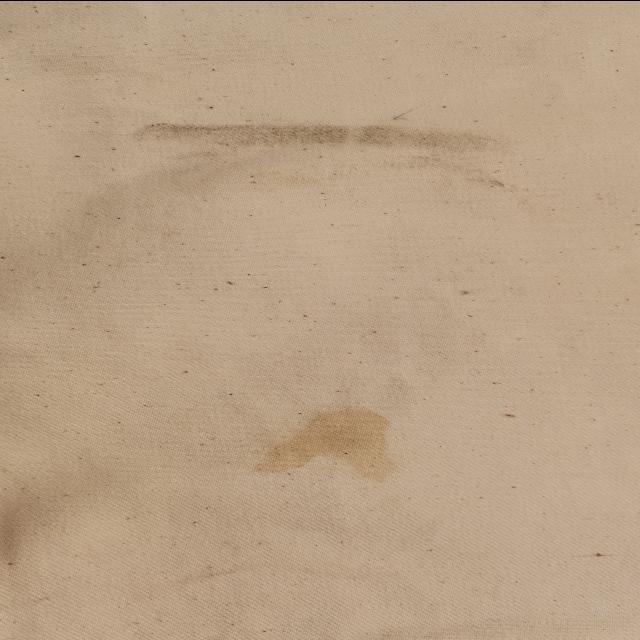taaaches: (120, 76, 530, 182), (234, 394, 432, 486)
